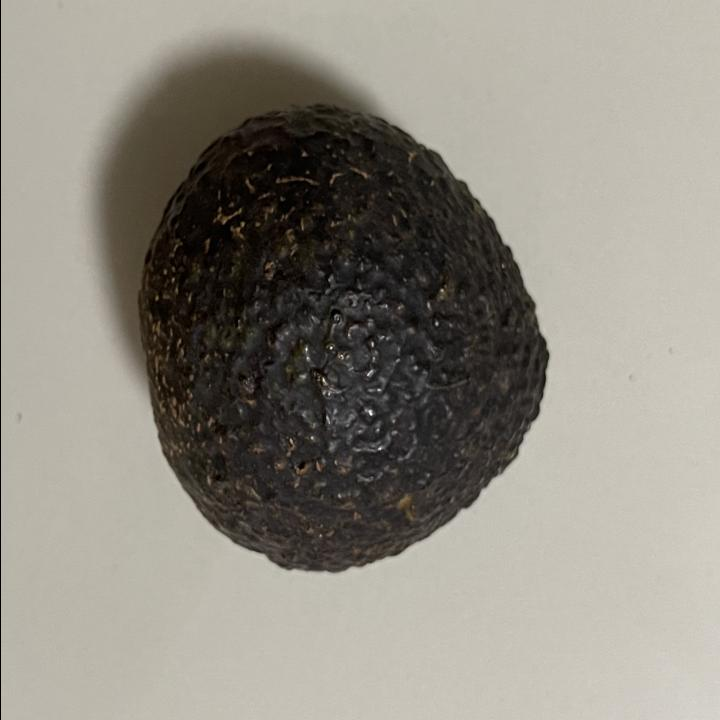Level2: (127, 92, 558, 586)
